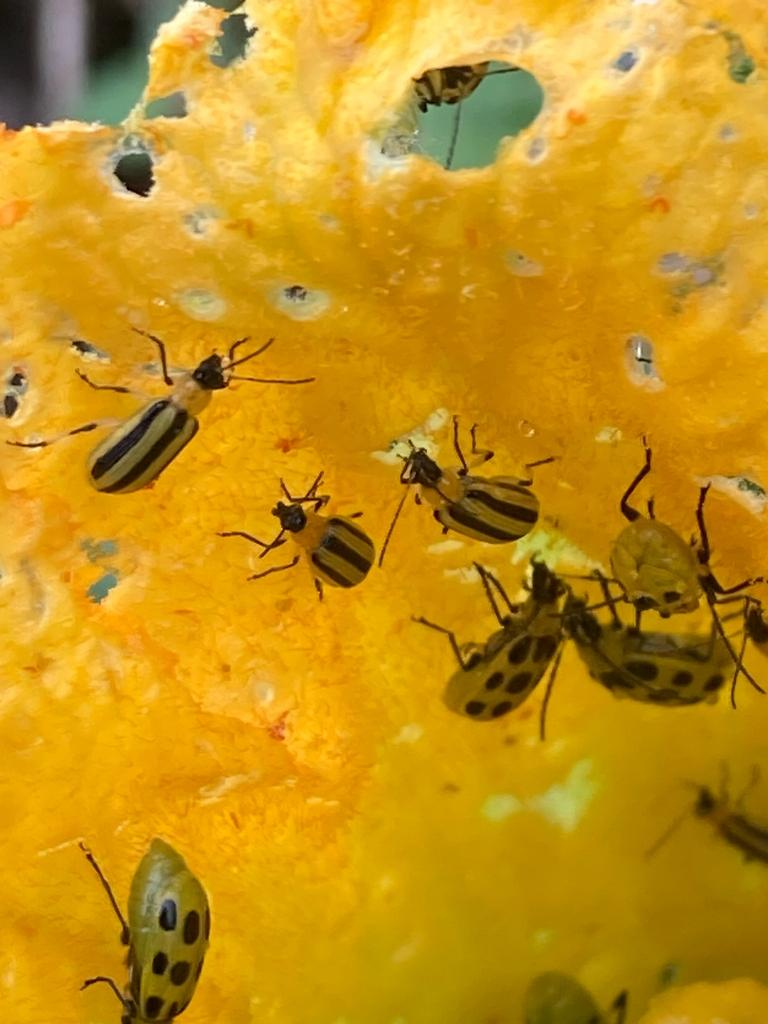potato_beetle: (0, 289, 326, 526), (19, 787, 263, 1024), (417, 514, 584, 793), (546, 546, 754, 767), (360, 387, 561, 580), (199, 449, 400, 607)
